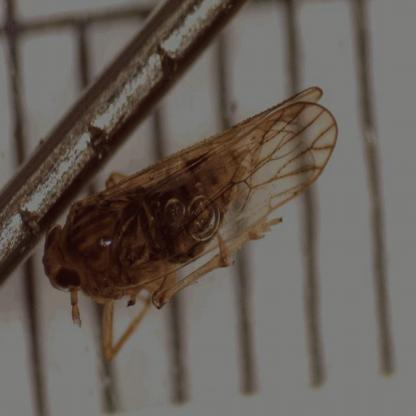brown-planthopper: (42, 87, 338, 326)
